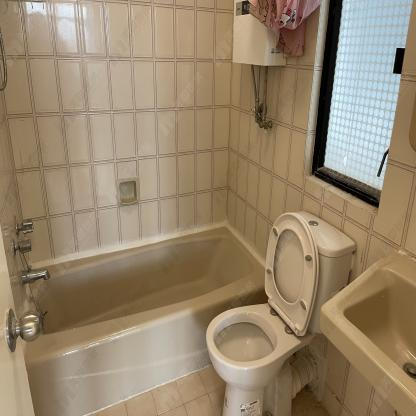Bathtub: (17, 221, 269, 416)
Toilet: (204, 208, 358, 416)
Toilet Sink: (321, 250, 416, 416)
Water Heater: (231, 0, 288, 68)
